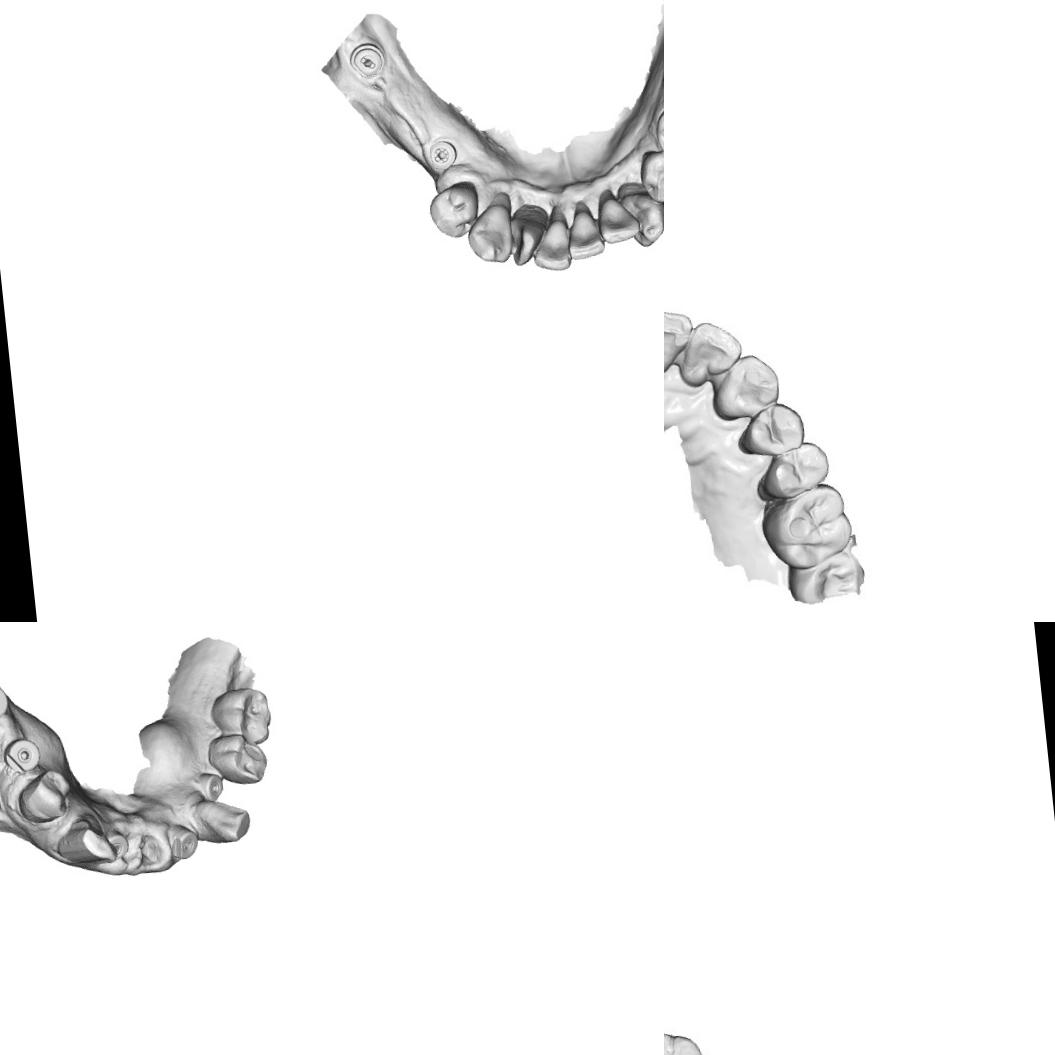canine: (710, 353, 784, 423), (54, 813, 118, 867), (464, 202, 516, 268), (192, 795, 252, 847), (620, 188, 664, 250)
implant: (0, 735, 42, 775), (166, 820, 201, 862), (195, 770, 227, 804), (105, 826, 132, 862), (0, 679, 12, 727)
implant_minus: (346, 39, 388, 81)
implant_plus: (424, 136, 460, 173)
incisor: (682, 320, 740, 382), (528, 216, 576, 274), (562, 206, 608, 262), (596, 195, 643, 246), (504, 212, 544, 268), (664, 302, 694, 370)
molar: (759, 480, 857, 574), (207, 684, 276, 751)
premolar: (752, 442, 831, 506), (734, 402, 809, 460), (204, 728, 270, 790), (425, 178, 484, 244), (13, 766, 76, 827), (636, 147, 664, 205), (651, 101, 664, 161)
